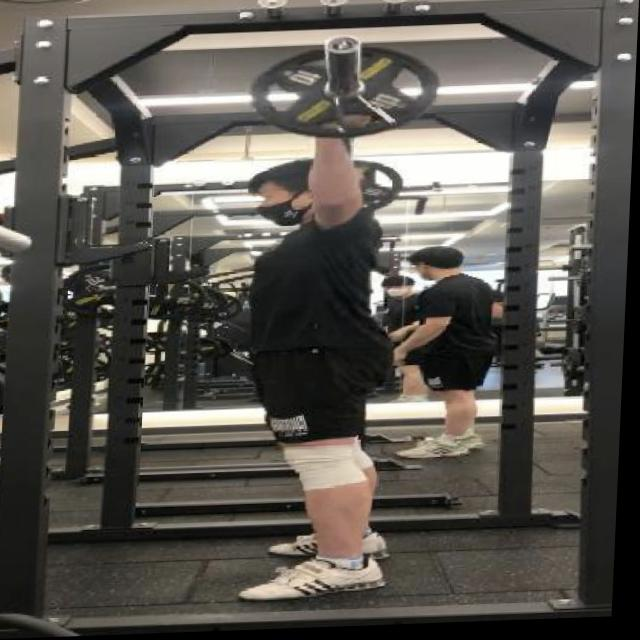barbell: (233, 39, 445, 148)
